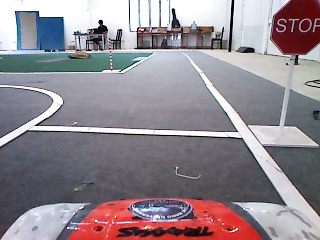stop: (267, 1, 320, 60)
